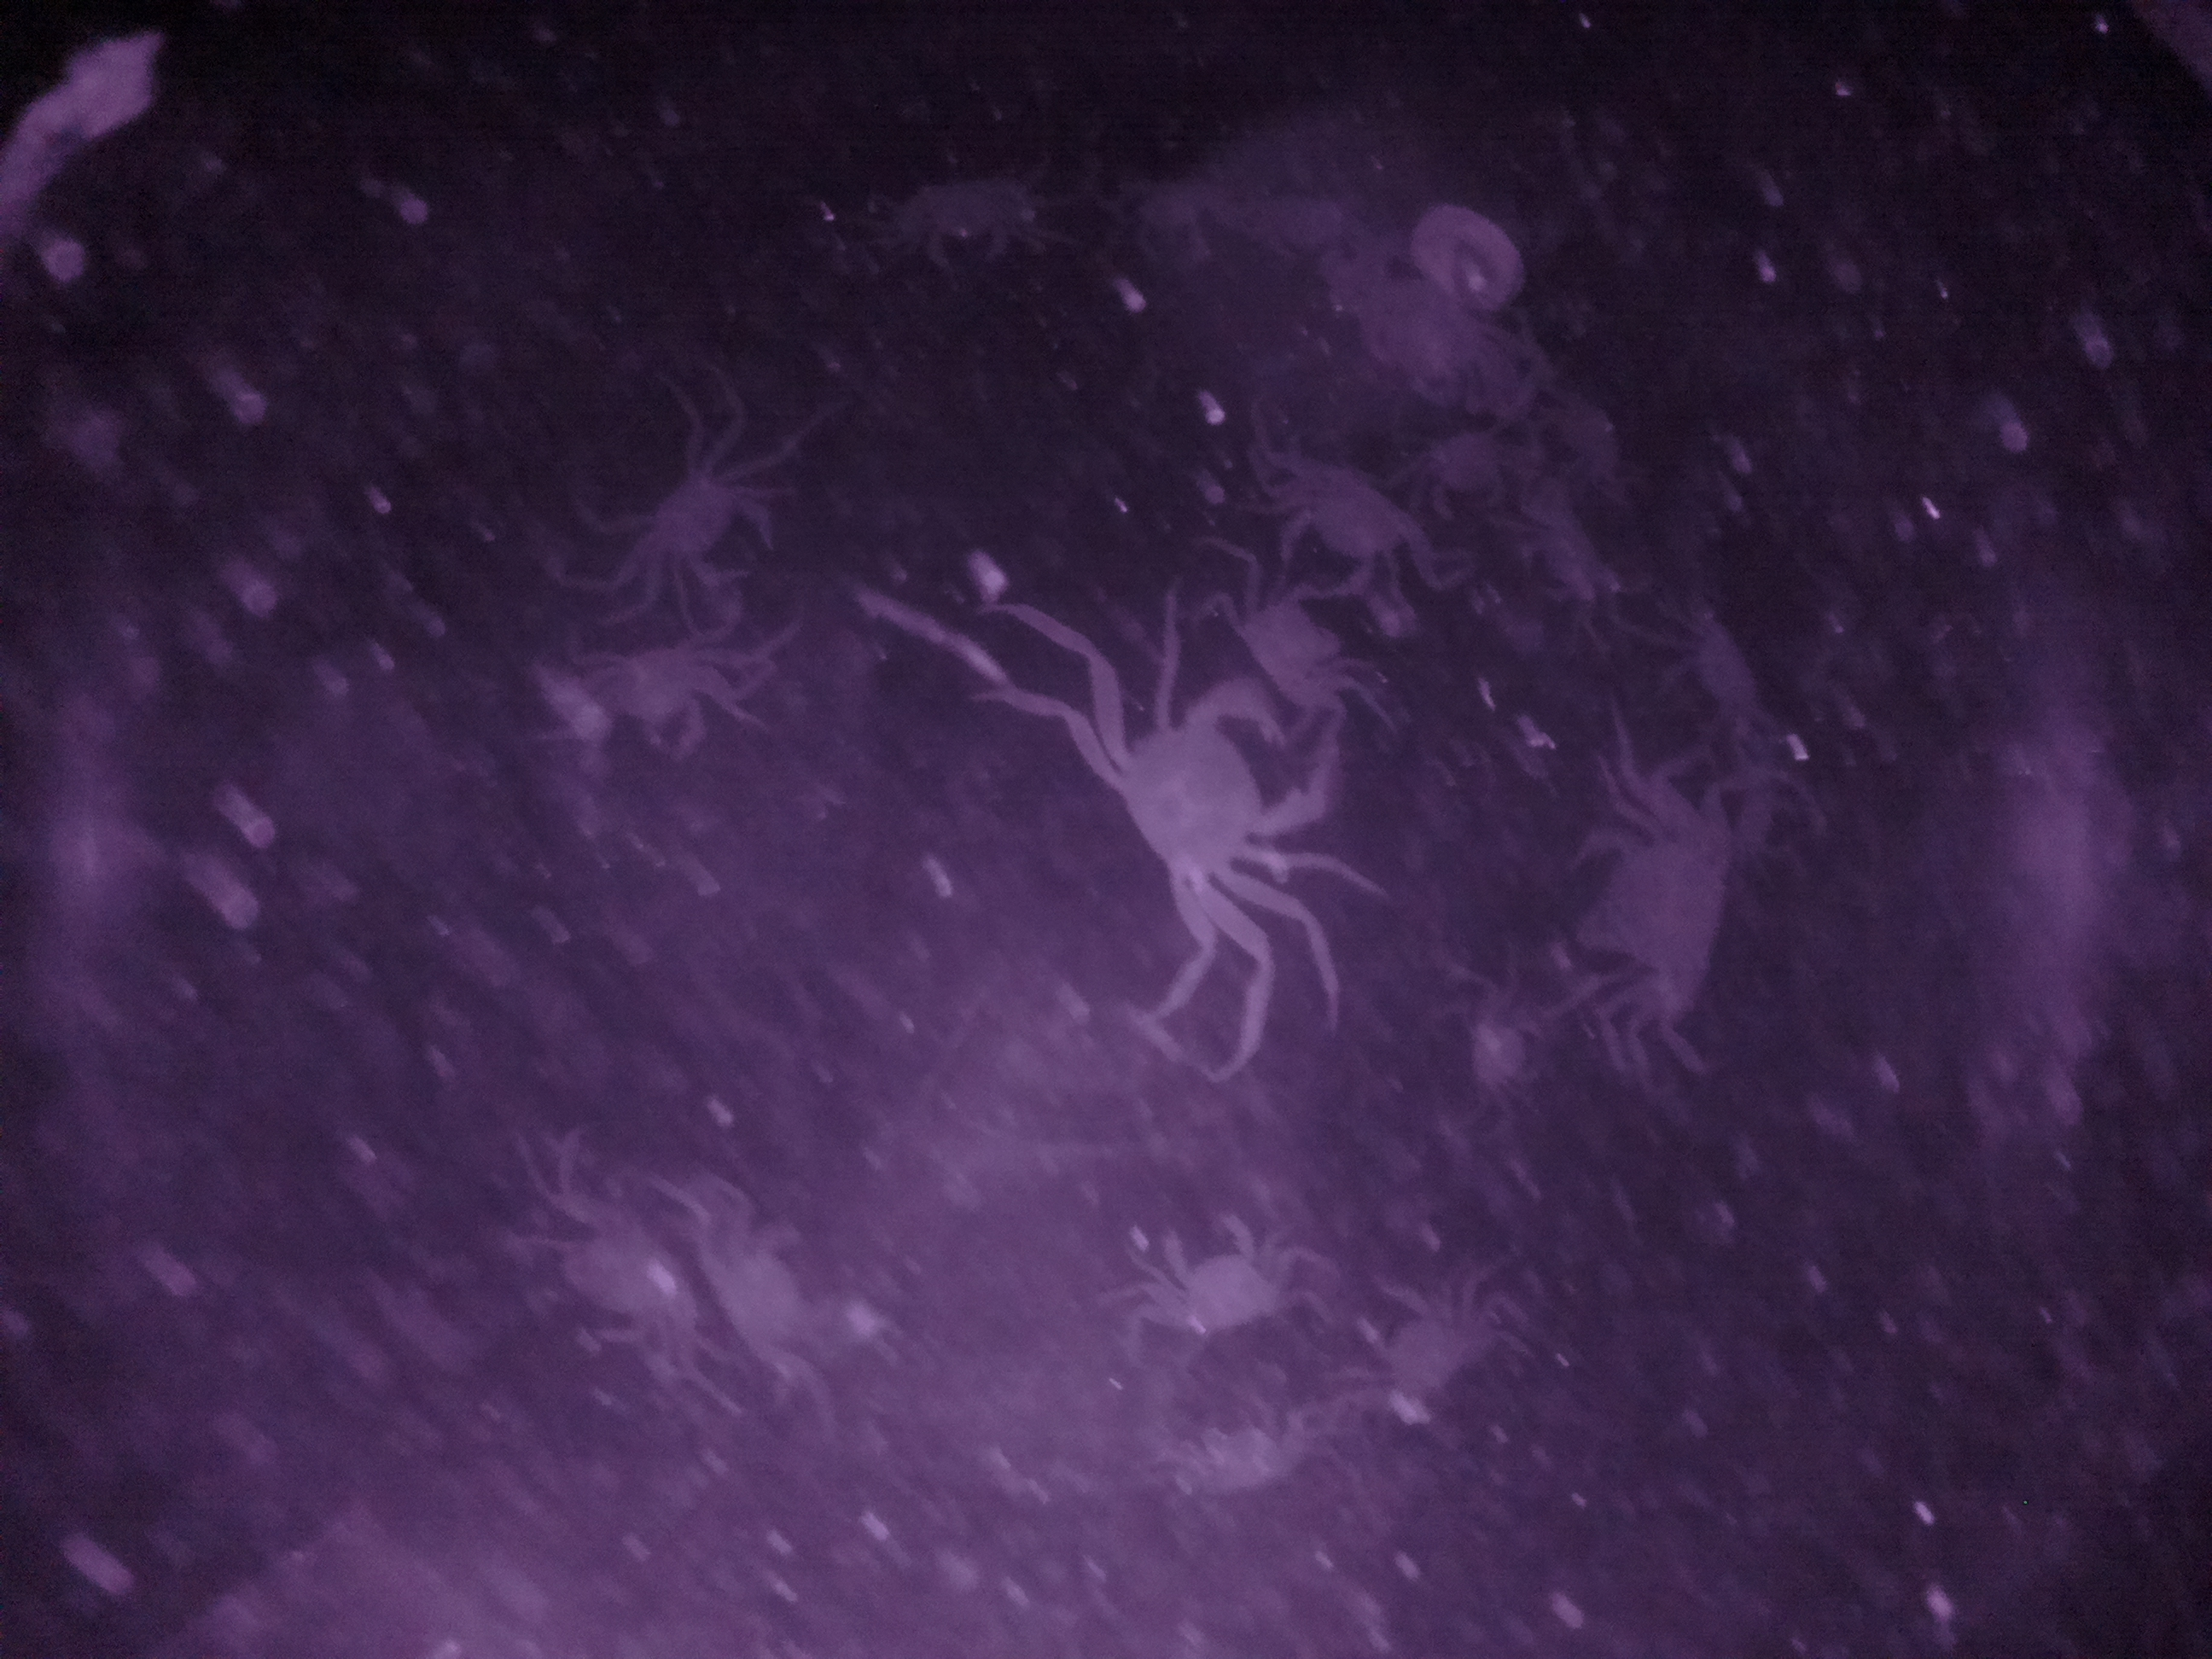Crab: (1064, 680, 1374, 951), (1245, 451, 1453, 613), (1125, 1201, 1320, 1356), (615, 450, 798, 613)
